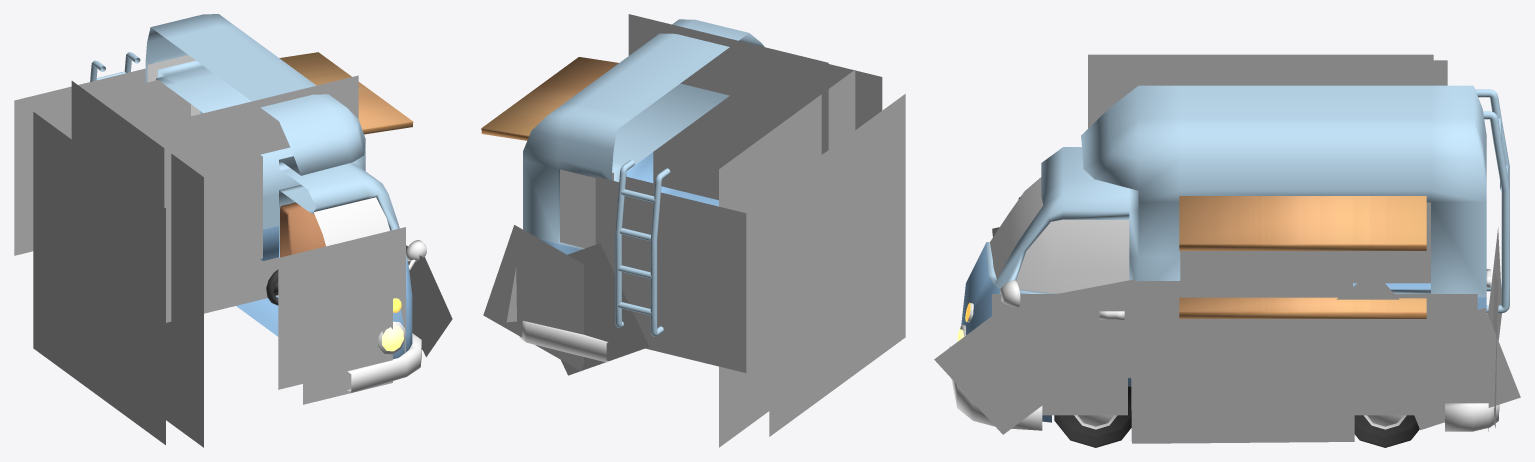
The model's file is Food Truck.gltf.
The picture shows the model from 3 angles, left to right: view 1: azimuth 30°, elevation 25°; view 2: azimuth 150°, elevation 25°; view 3: azimuth 270°, elevation 25°; orthographic projection. The views are drawn at different scales.
Visible parts, largest first — view 1: back_truck1, Body, cheers!, essence-decal, back_truck2, back_truck2.001, sparkle_decal.003, sip&savordecal, Windscreen, Awning, sparkle_decal.002, Seat (+5 smaller); view 2: back_truck1, Body, sip&savordecal, cheers!, back_truck2, back_truck2.001, can_decal.007, can_decal.006, Awning, Ladder, Windscreen, Bumber (+1 smaller); view 3: Body, logo_decal, Awning, back_truck2.001, can_decal.003, sparkle_decal.001, Windscreen, can_decal, can_decal.001, back_truck2, Wheel, back_truck1 (+5 smaller).
Boxes of the visible parts, x1=… form: back_truck1: x1=33, y1=112, x2=165, y2=444; Body: x1=145, y1=14, x2=412, y2=359; cheers!: x1=164, y1=75, x2=358, y2=322; essence-decal: x1=278, y1=227, x2=405, y2=389; back_truck2: x1=71, y1=115, x2=203, y2=447; back_truck2.001: x1=71, y1=81, x2=203, y2=412; sparkle_decal.003: x1=303, y1=290, x2=392, y2=404; sip&savordecal: x1=14, y1=68, x2=145, y2=255; Windscreen: x1=147, y1=55, x2=389, y2=246; Awning: x1=279, y1=52, x2=413, y2=134; sparkle_decal.002: x1=121, y1=80, x2=190, y2=147; Seat: x1=280, y1=202, x2=325, y2=257; back_truck1: x1=769, y1=94, x2=905, y2=436; Body: x1=523, y1=19, x2=764, y2=254; sip&savordecal: x1=595, y1=176, x2=746, y2=372; cheers!: x1=628, y1=14, x2=828, y2=200; back_truck2: x1=719, y1=105, x2=855, y2=447; back_truck2.001: x1=719, y1=70, x2=855, y2=405; can_decal.007: x1=483, y1=225, x2=583, y2=370; can_decal.006: x1=561, y1=243, x2=649, y2=375; Awning: x1=481, y1=57, x2=618, y2=140; Ladder: x1=615, y1=160, x2=670, y2=336; Windscreen: x1=560, y1=169, x2=613, y2=248; Bumber: x1=519, y1=321, x2=608, y2=362; Body: x1=961, y1=85, x2=1486, y2=422; logo_decal: x1=1130, y1=279, x2=1354, y2=443; Awning: x1=1179, y1=196, x2=1426, y2=318; back_truck2.001: x1=1102, y1=60, x2=1447, y2=282; can_decal.003: x1=934, y1=303, x2=1084, y2=434; sparkle_decal.001: x1=992, y1=294, x2=1127, y2=415; Windscreen: x1=990, y1=177, x2=1129, y2=293; can_decal: x1=1292, y1=271, x2=1442, y2=407; can_decal.001: x1=1400, y1=308, x2=1520, y2=430; back_truck2: x1=1102, y1=104, x2=1430, y2=283; Wheel: x1=1054, y1=386, x2=1419, y2=447; back_truck1: x1=1088, y1=54, x2=1433, y2=128.
Size of the model in its own units: 3.18 by 3.26 by 4.38.
